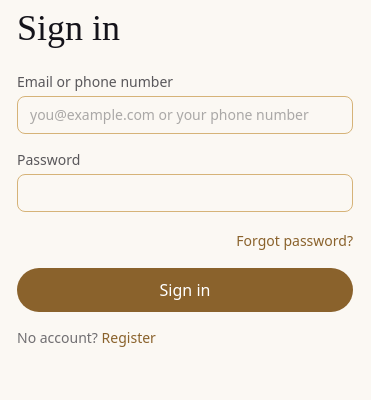
Login › shows an error and re-enables the form on invalid credentials, without navigating away
The width and height of the screenshot is (371, 400).
Type "shopper@test.com" into the field labelled "Email or phone number".
click(185, 115); type("shopper@test.com")  # box [17, 96, 353, 134]
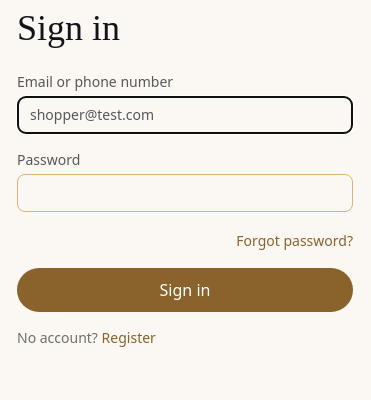
Type "wrong-password" into the password field labelled "Password".
click(185, 193); type("wrong-password")  # box [17, 174, 353, 212]
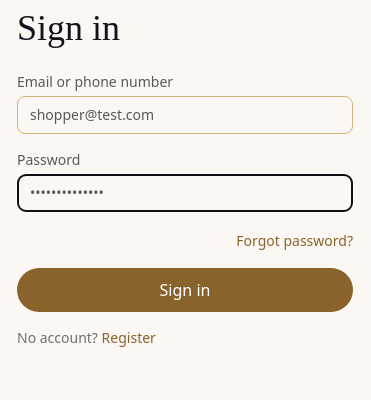
Click the button "Sign in".
click(185, 290)  # box [17, 268, 353, 312]
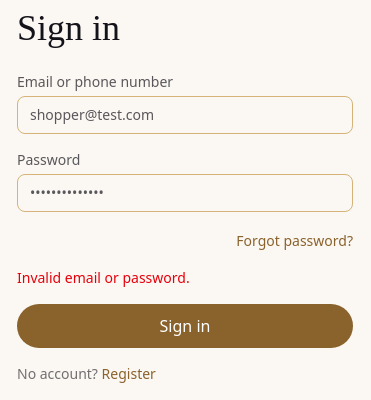
Check: the button "Sign in" is enabled, box [17, 304, 353, 348]
Check: the message shows "Invalid email or password", box [17, 268, 190, 287]
